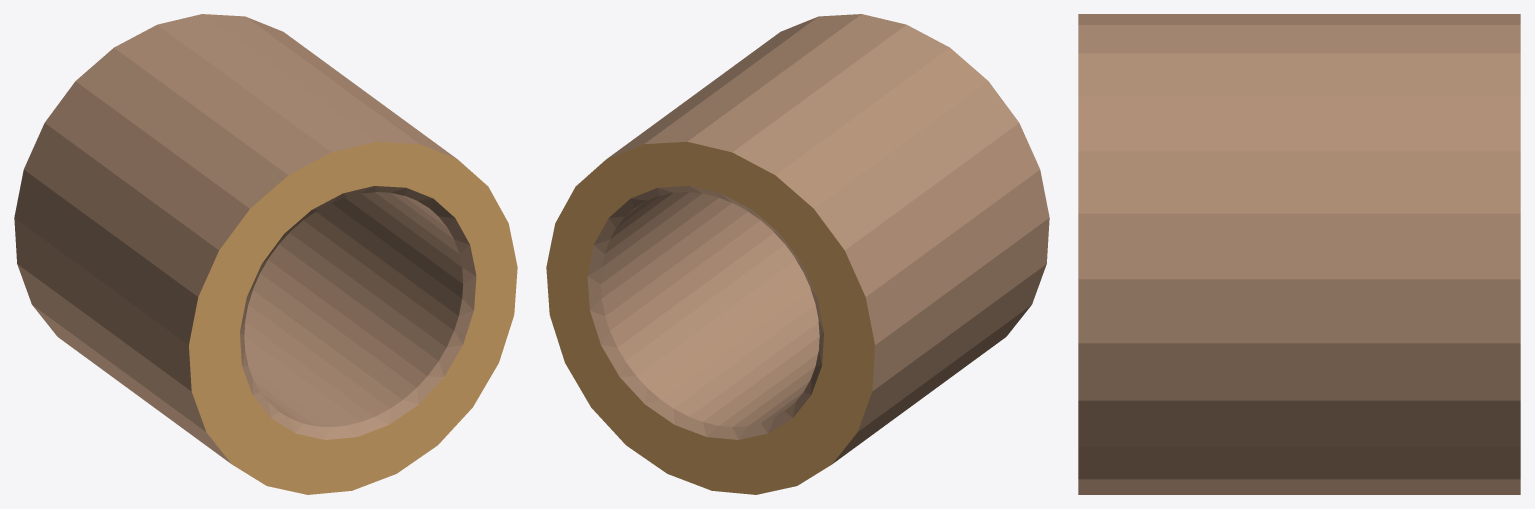
The model's file is Tunel001.fbx.
The picture shows the model from 3 angles, left to right: view 1: azimuth 30°, elevation 25°; view 2: azimuth 150°, elevation 25°; view 3: azimuth 270°, elevation 25°; orthographic projection. The views are drawn at different scales.
Visible parts, largest first — view 1: Cylinder.004; view 2: Cylinder.004; view 3: Cylinder.004.
Part boxes in pixels (x1=…): Cylinder.004: x1=14, y1=14, x2=517, y2=494; Cylinder.004: x1=546, y1=14, x2=1049, y2=494; Cylinder.004: x1=1078, y1=14, x2=1520, y2=494.
Size of the model in its own units: 780 by 778 by 717.
